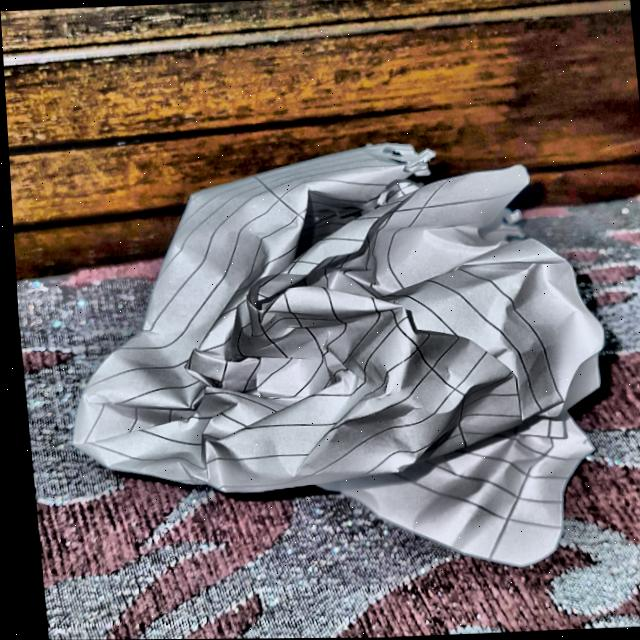paper: (63, 135, 627, 578)
